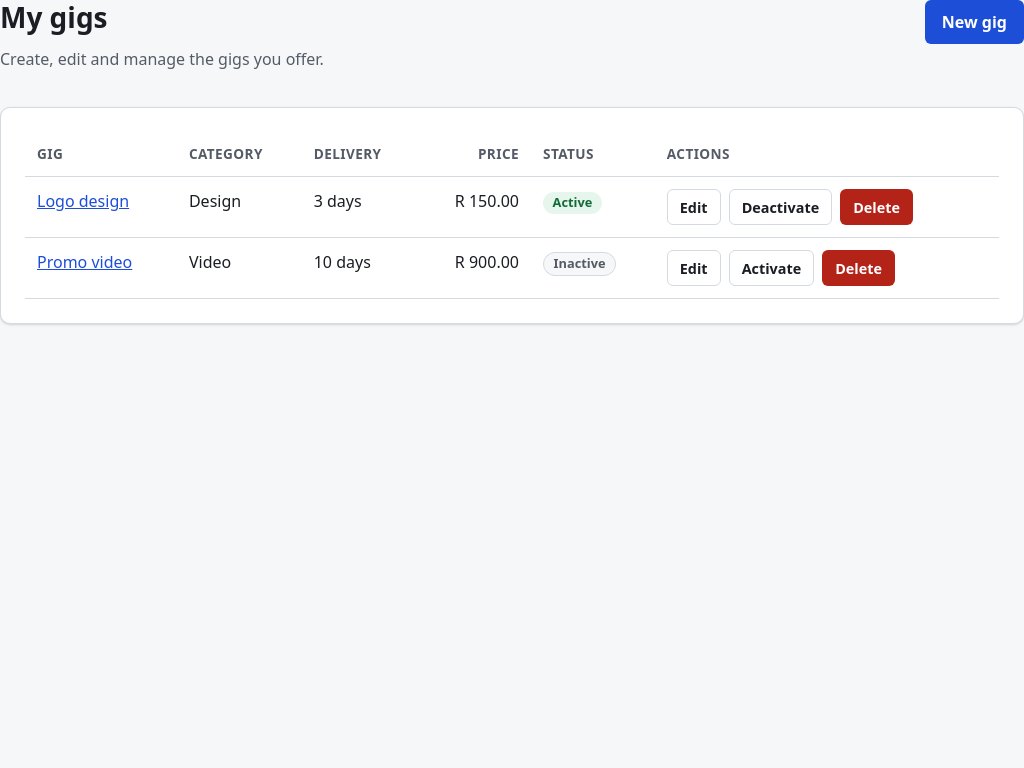
My gigs › shows the server's message when the gig was deactivated instead
Click the button "Delete" in the row of "Logo design": (876, 207) [840,189,913,225]
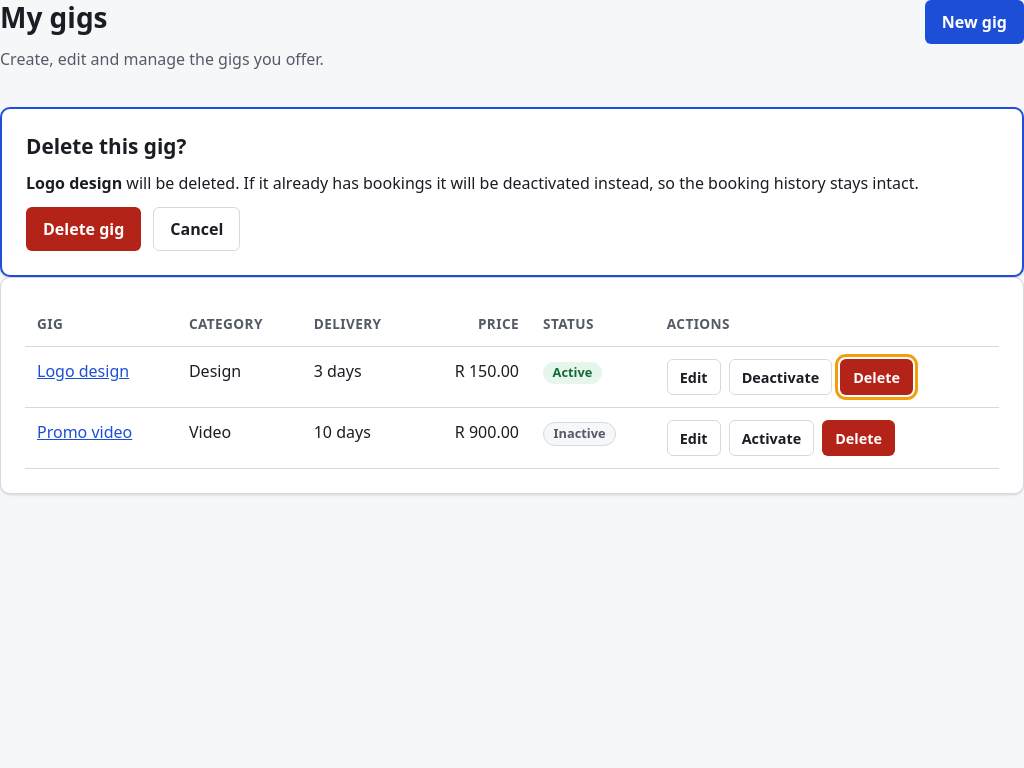
Click the button "Delete gig": (84, 229) [26,207,141,251]
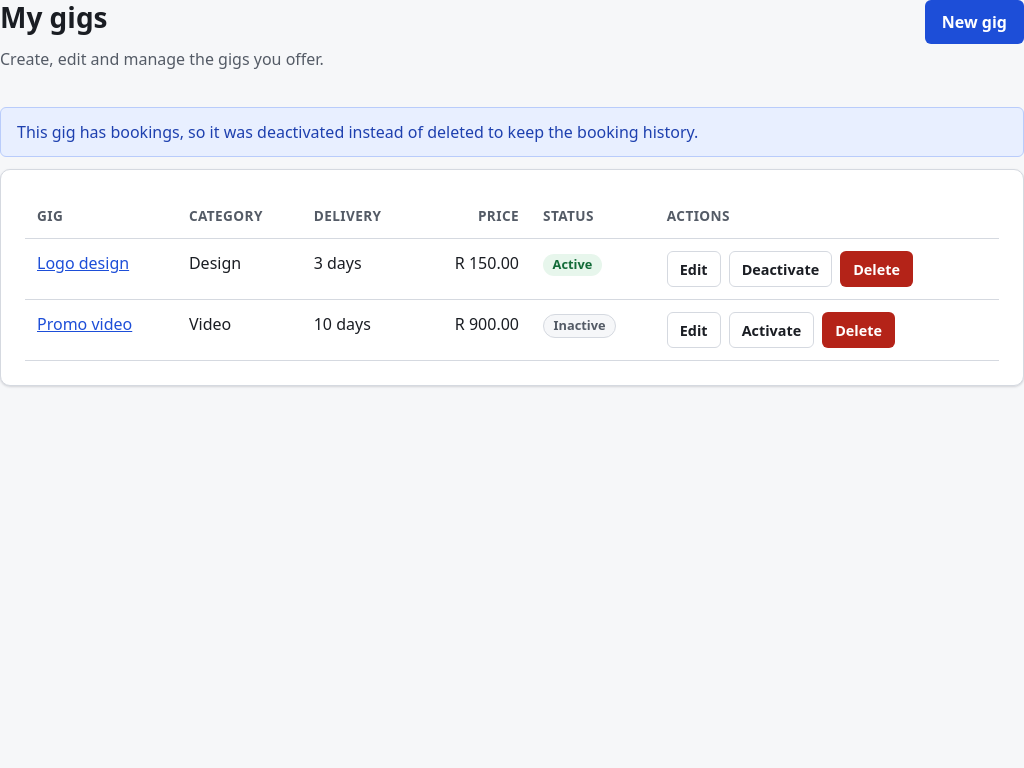
Check: the text "This gig has bookings, so it was deactivated instead of deleted to keep the booking history." is shown, box [17,121,698,143]
